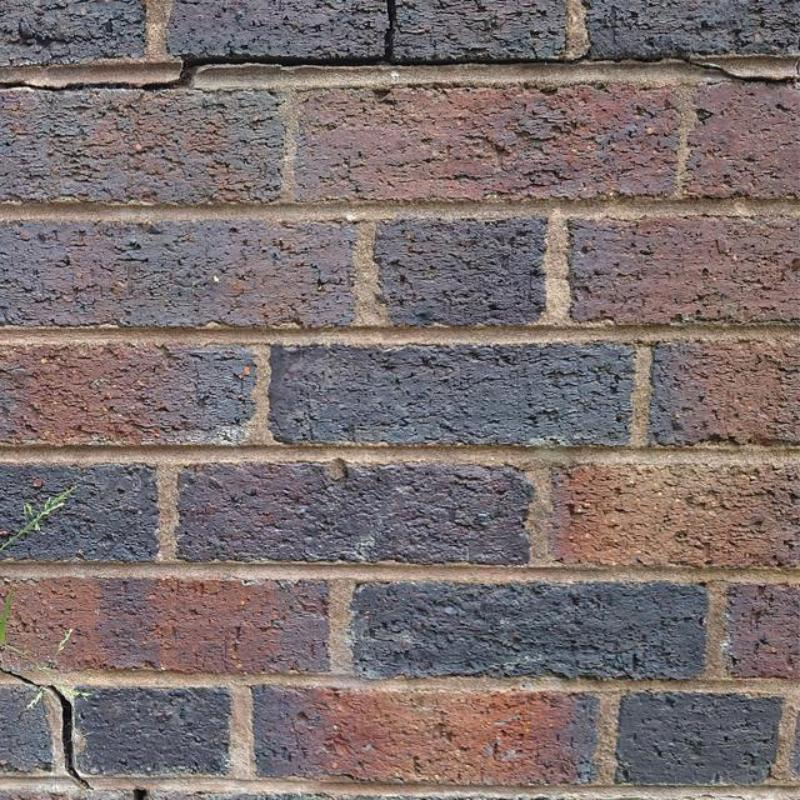pothole: (1, 0, 623, 91), (0, 668, 89, 787), (687, 61, 795, 85)
